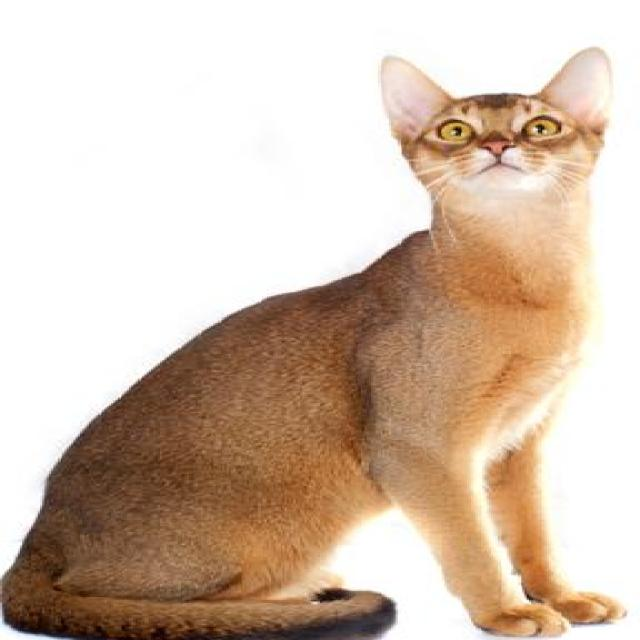Abyssinian: (0, 41, 638, 640)
